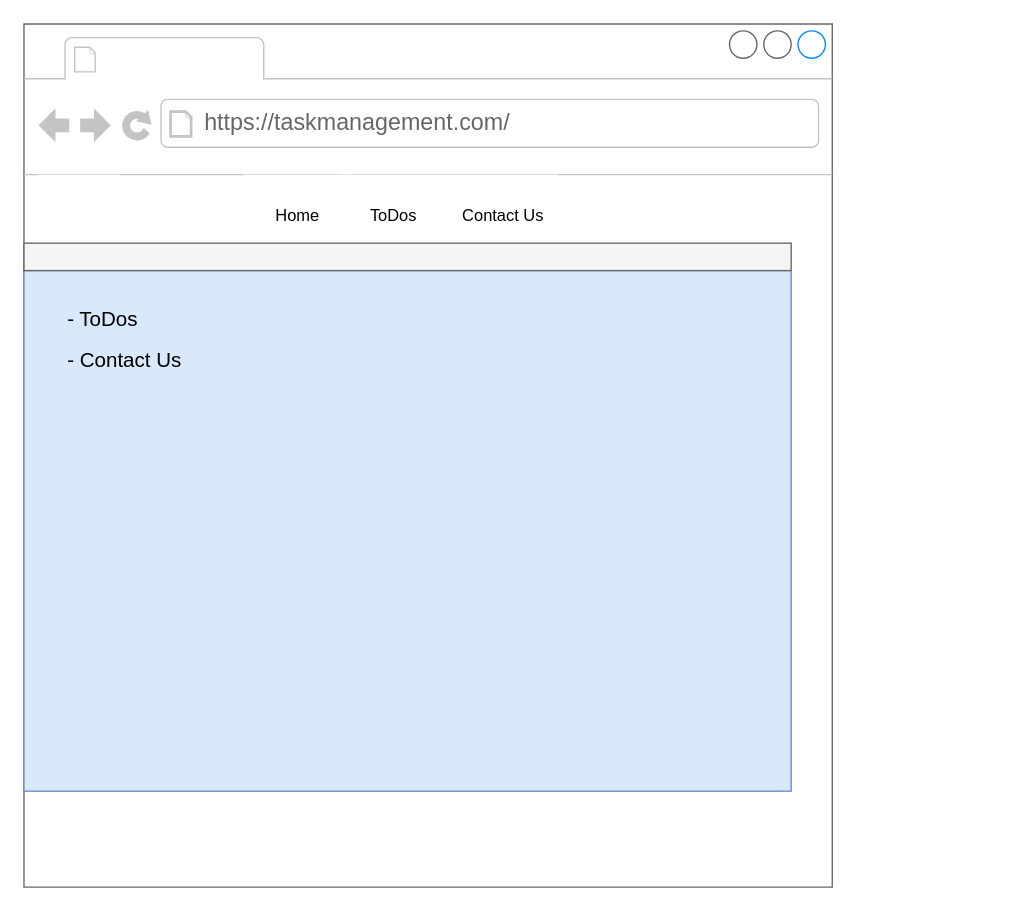
This 1021x911 diagram has some shape labels left out. Each missing label, with the centre of its shape:
"Page 1" belongs at pixel 182 57.
"Task Management" belongs at pixel 78 215.
